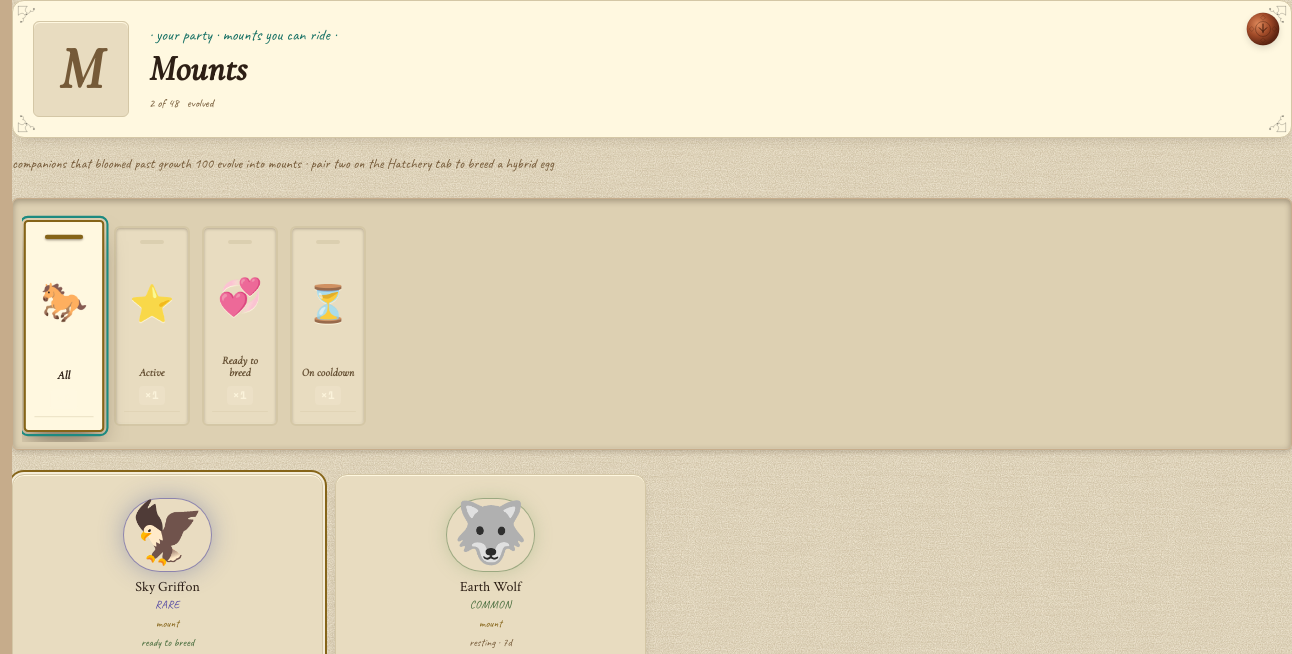
Mounts tab › Ready to breed filter shows only mounts off cooldown
Expected: the text "Sky Griffon" is shown, [135,578,200,596]
Click the tab "💞 Ready to breed ×1" at (240, 326), box [202,226,278,426]
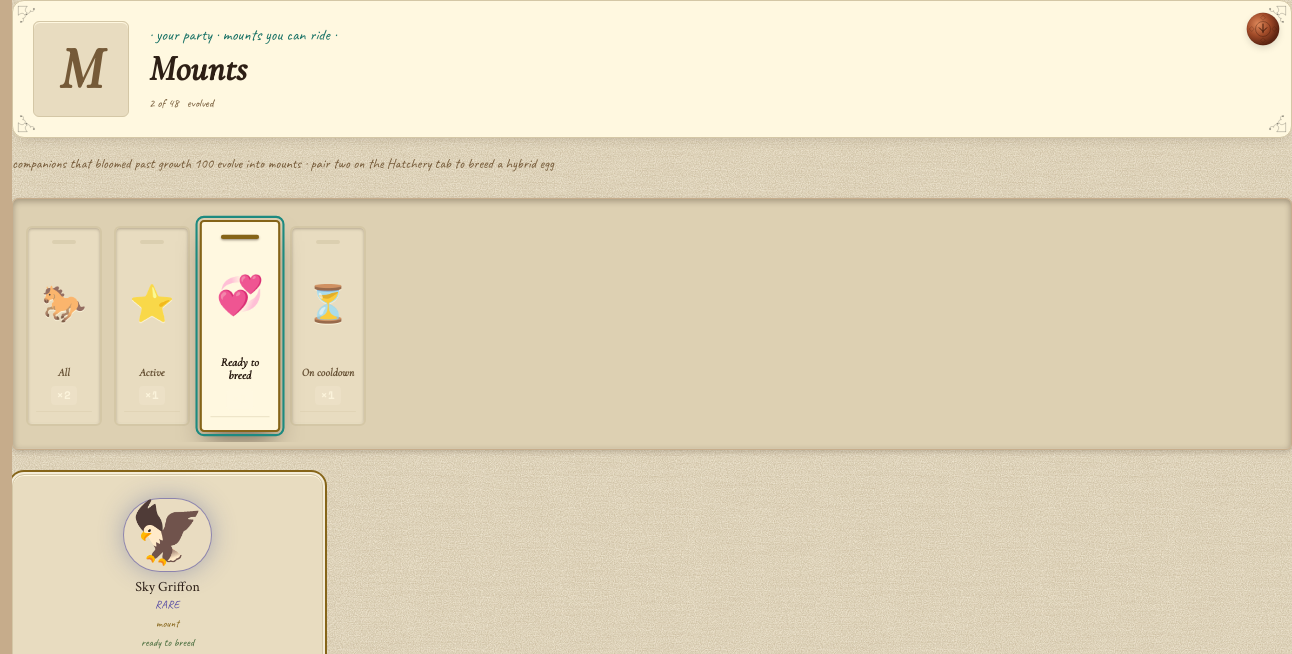
Expected: the text "Sky Griffon" is shown, [135,578,200,596]
Now the text "Wolf" is gone
